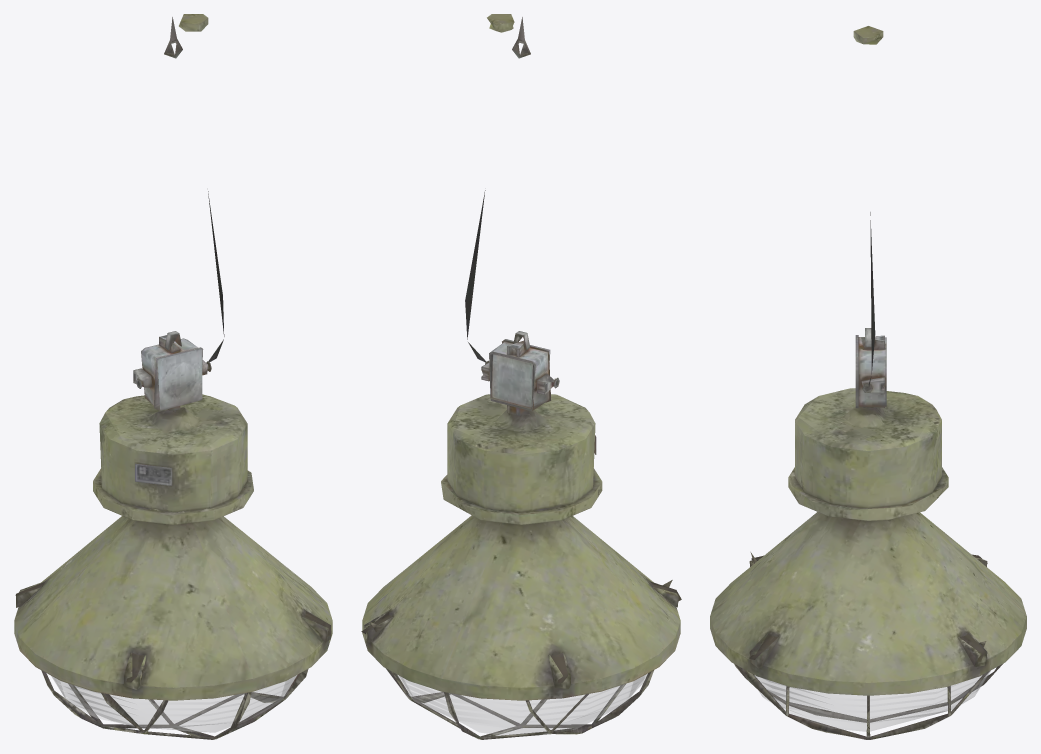
The model's file is lamp.glb.
3 renders of one model, left to right at view 1: azimuth 30°, elevation 25°; view 2: azimuth 150°, elevation 25°; view 3: azimuth 270°, elevation 25°, orthographic.
Visible parts, largest first — view 1: hanging_industrial_lamp; view 2: hanging_industrial_lamp; view 3: hanging_industrial_lamp.
Boxes of the visible parts, x1,y1,x2,y2 form: hanging_industrial_lamp: (14, 14, 332, 739); hanging_industrial_lamp: (361, 14, 681, 739); hanging_industrial_lamp: (710, 26, 1026, 739).
Size of the model in its own units: 0.5497 by 1.36 by 0.5497.
2 materials, 1 textured.
